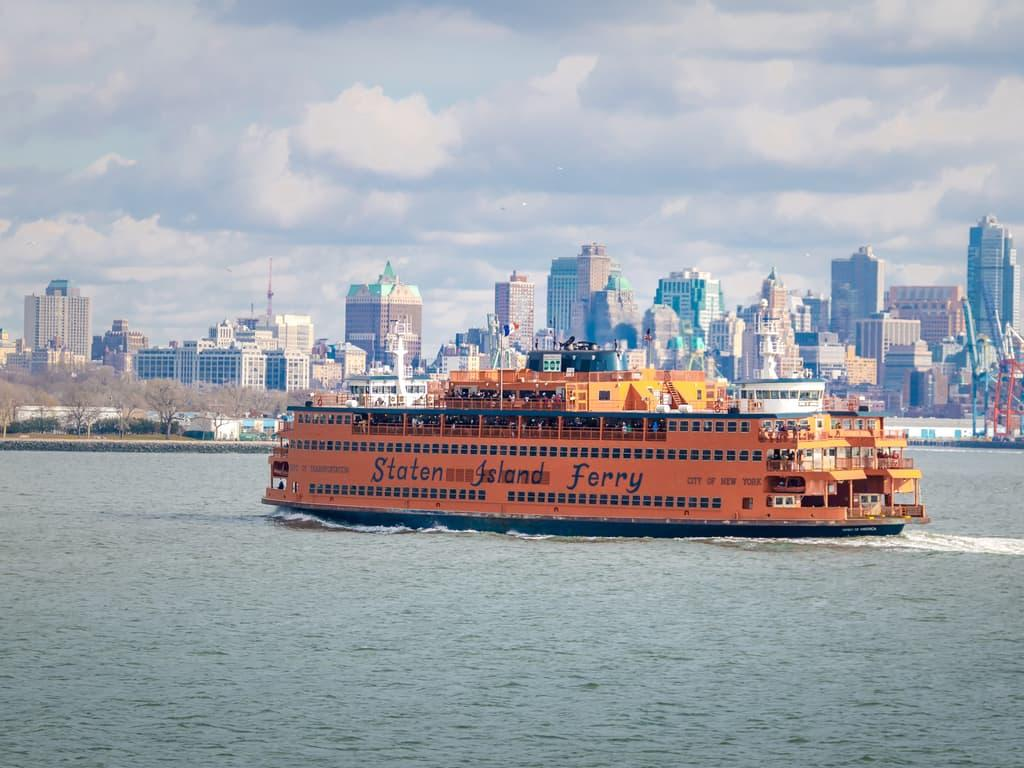PassengerShip: (258, 332, 940, 524)
